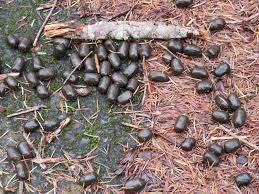Elk: (59, 41, 129, 98)
